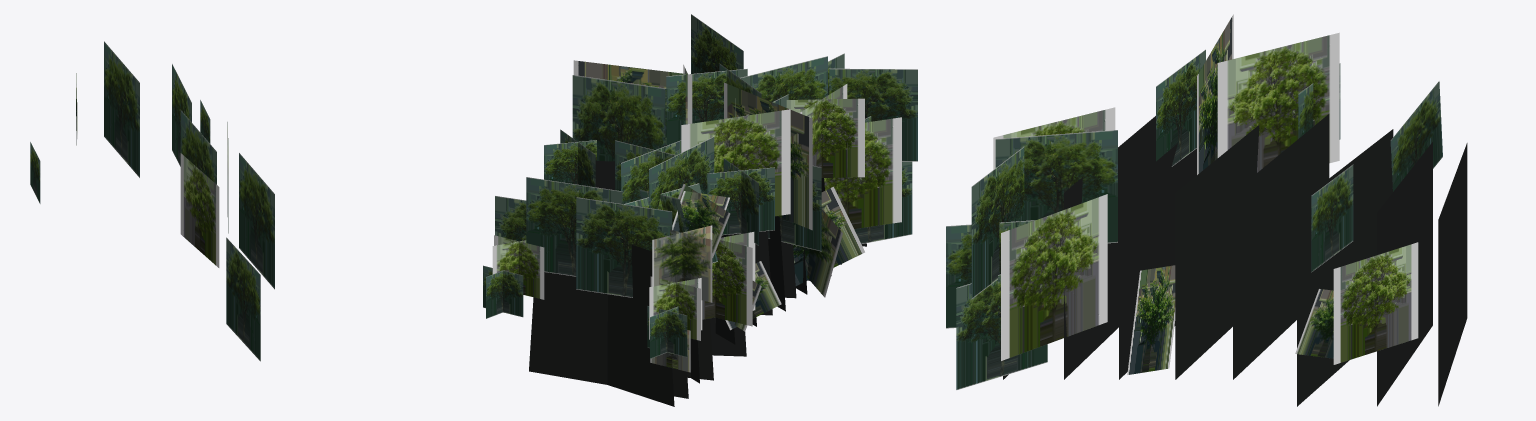
File: AMB_TREES2_D4.glb
3 renders of one model, left to right at view 1: azimuth 30°, elevation 25°; view 2: azimuth 150°, elevation 25°; view 3: azimuth 270°, elevation 25°, orthographic. The views are drawn at different scales.
Visible parts, largest first — view 1: obj11, obj5, obj10, obj7, BK; view 2: BK, obj6, obj11, obj5, obj7, obj9, obj10, obj4; view 3: obj11, obj6, obj5, obj9, obj7, obj4, BK, obj10.
Part boxes in pixels (<box>): obj11: <box>226,153,274,361</box>; obj5: <box>104,41,191,177</box>; obj10: <box>180,122,228,267</box>; obj7: <box>180,110,216,184</box>; BK: <box>30,100,210,203</box>; BK: <box>483,177,712,406</box>; obj6: <box>572,75,790,344</box>; obj11: <box>683,14,917,275</box>; obj5: <box>544,129,781,383</box>; obj7: <box>573,60,821,326</box>; obj9: <box>666,63,864,311</box>; obj10: <box>740,56,864,294</box>; obj4: <box>624,183,730,380</box>; obj11: <box>946,107,1117,390</box>; obj6: <box>1217,32,1340,379</box>; obj5: <box>1295,129,1418,406</box>; obj9: <box>1119,49,1205,379</box>; obj7: <box>1175,14,1259,379</box>; obj4: <box>1377,81,1442,406</box>; BK: <box>1438,143,1467,406</box>; obj10: <box>1064,116,1155,379</box>.
Size of the model in its own units: 74.61 by 71.3 by 122.
Materials: 27 (27 with a texture image).
